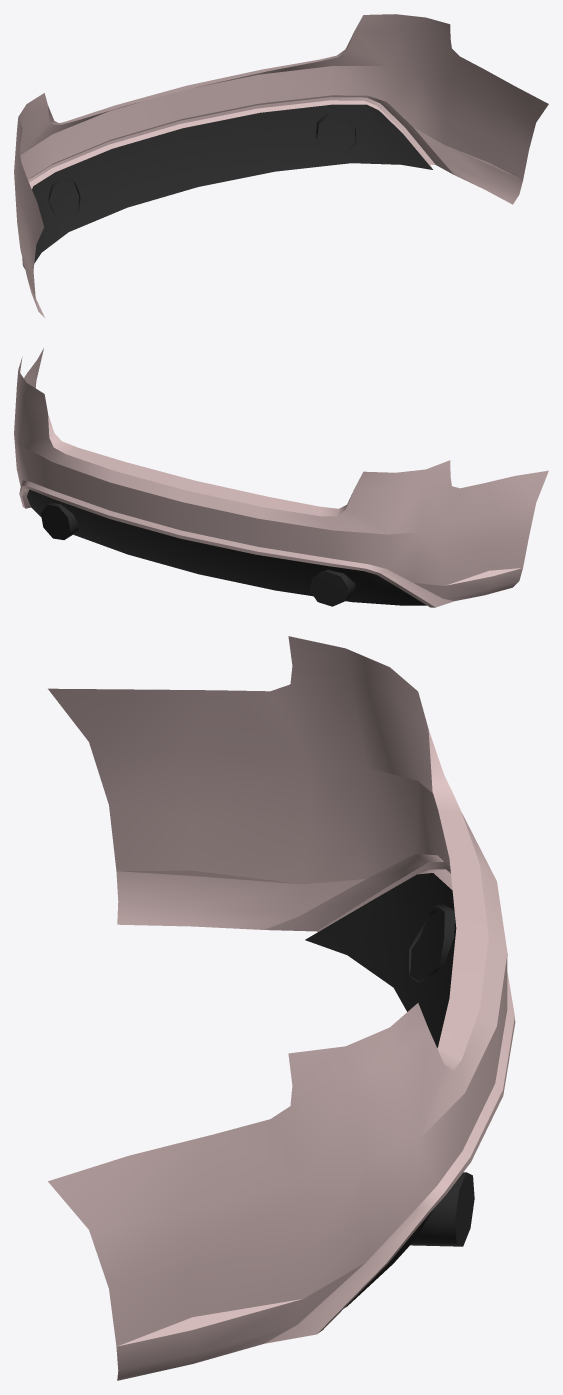
The model's file is Classic_14_Bumper_B_1.fbx.
3 views of the same model, one above another, from view 1: azimuth 30°, elevation 25°; view 2: azimuth 150°, elevation 25°; view 3: azimuth 270°, elevation 25° (orthographic). The views are drawn at different scales.
Visible parts, largest first — view 1: Classic_14_Bumper_B_1; view 2: Classic_14_Bumper_B_1; view 3: Classic_14_Bumper_B_1.
Boxes of the visible parts, x1,y1,x2,y2 form: Classic_14_Bumper_B_1: (14, 14, 548, 317); Classic_14_Bumper_B_1: (14, 348, 548, 607); Classic_14_Bumper_B_1: (48, 636, 515, 1380).
Size of the model in its own units: 206 by 60.02 by 82.55.
